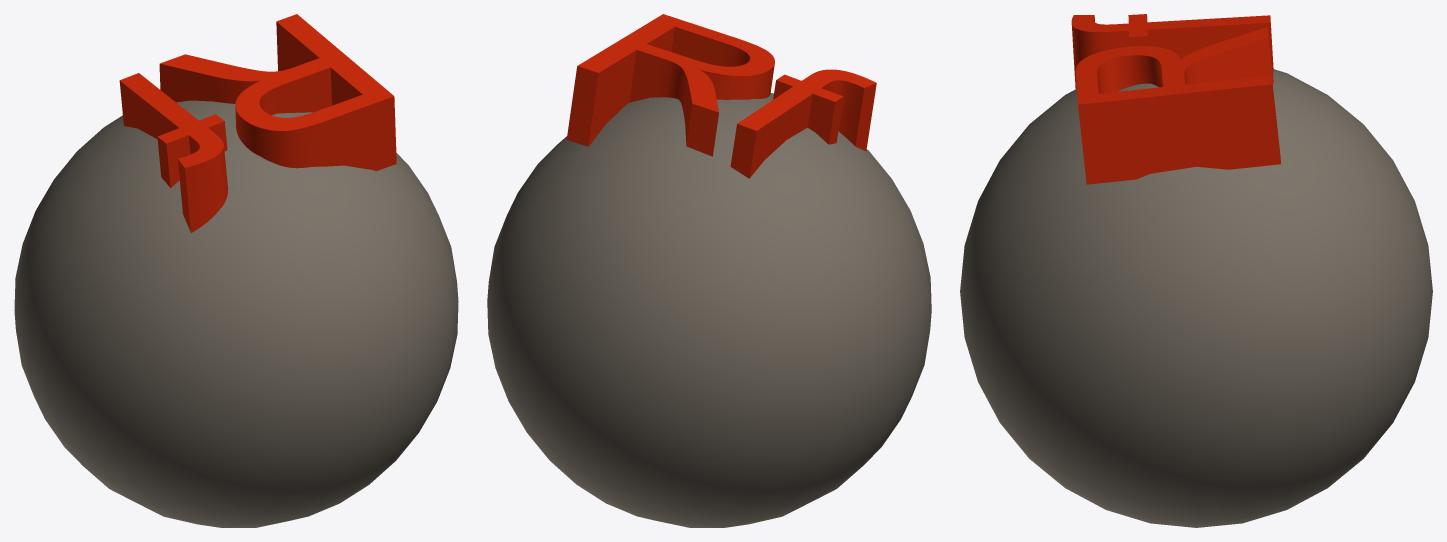
The picture shows the model from 3 angles, left to right: view 1: azimuth 30°, elevation 25°; view 2: azimuth 150°, elevation 25°; view 3: azimuth 270°, elevation 25°; orthographic projection. The views are drawn at different scales.
Parts seen in each view (by area): view 1: U001, Object015, Object016; view 2: U001, Object015, Object016; view 3: U001, Object015, Object016.
Part boxes in pixels (x1,y1,x2,y2): U001: (14,100,458,527); Object015: (159,14,396,171); Object016: (119,73,227,233); U001: (487,93,931,527); Object015: (566,14,774,156); Object016: (730,69,876,178); U001: (960,59,1432,527); Object015: (1075,27,1280,184); Object016: (1071,14,1273,88).
Bounding box in the file's own units: 38.67 × 42.59 × 38.75.
